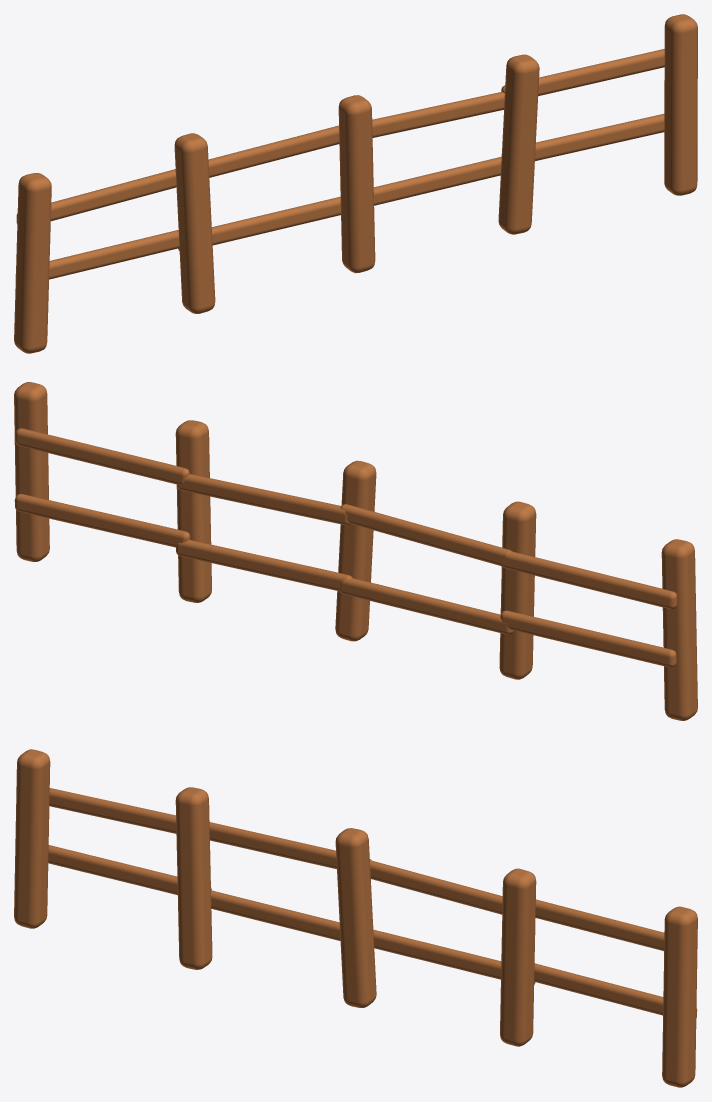
Rendered from PROP_FENCE.glb.
3 views of the same model, one above another, from view 1: azimuth 30°, elevation 25°; view 2: azimuth 150°, elevation 25°; view 3: azimuth 330°, elevation 25° (orthographic).
Visible parts, largest first — view 1: fence; view 2: fence; view 3: fence.
Part boxes in pixels (x1,y1,x2,y2): fence: (14,14,697,353); fence: (14,382,697,720); fence: (14,749,697,1087).
Bounding box in the file's own units: 14.51 × 3.56 × 0.8432.
